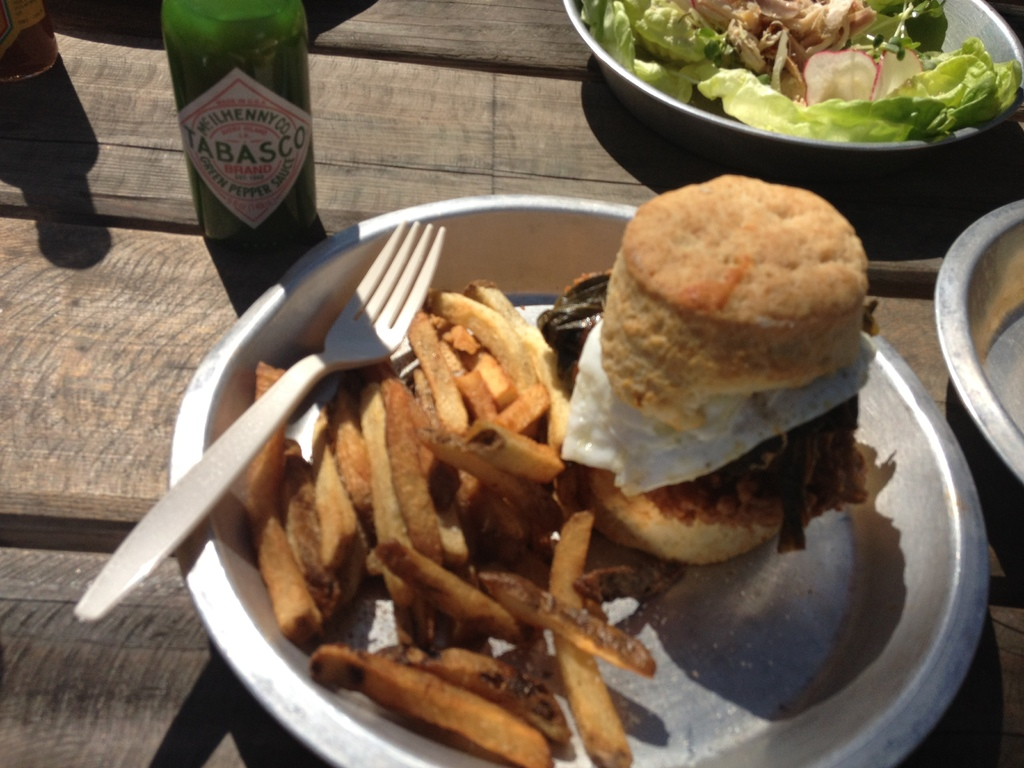French fries: (220, 355, 682, 757)
